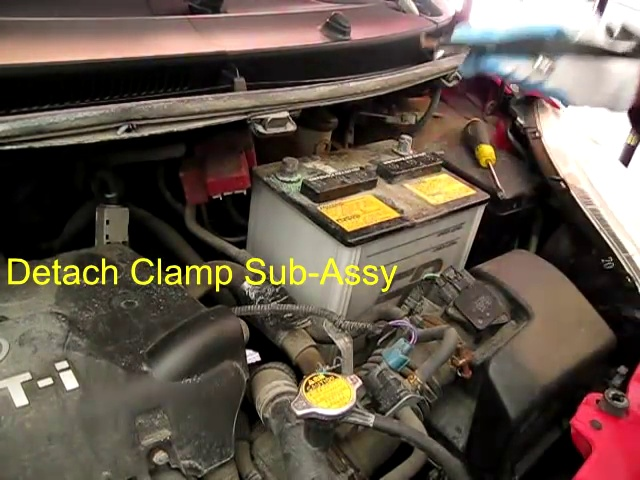battery: (248, 123, 488, 229)
neg_disconnected: (377, 124, 425, 160)
pos_disconnected: (192, 142, 311, 207)
